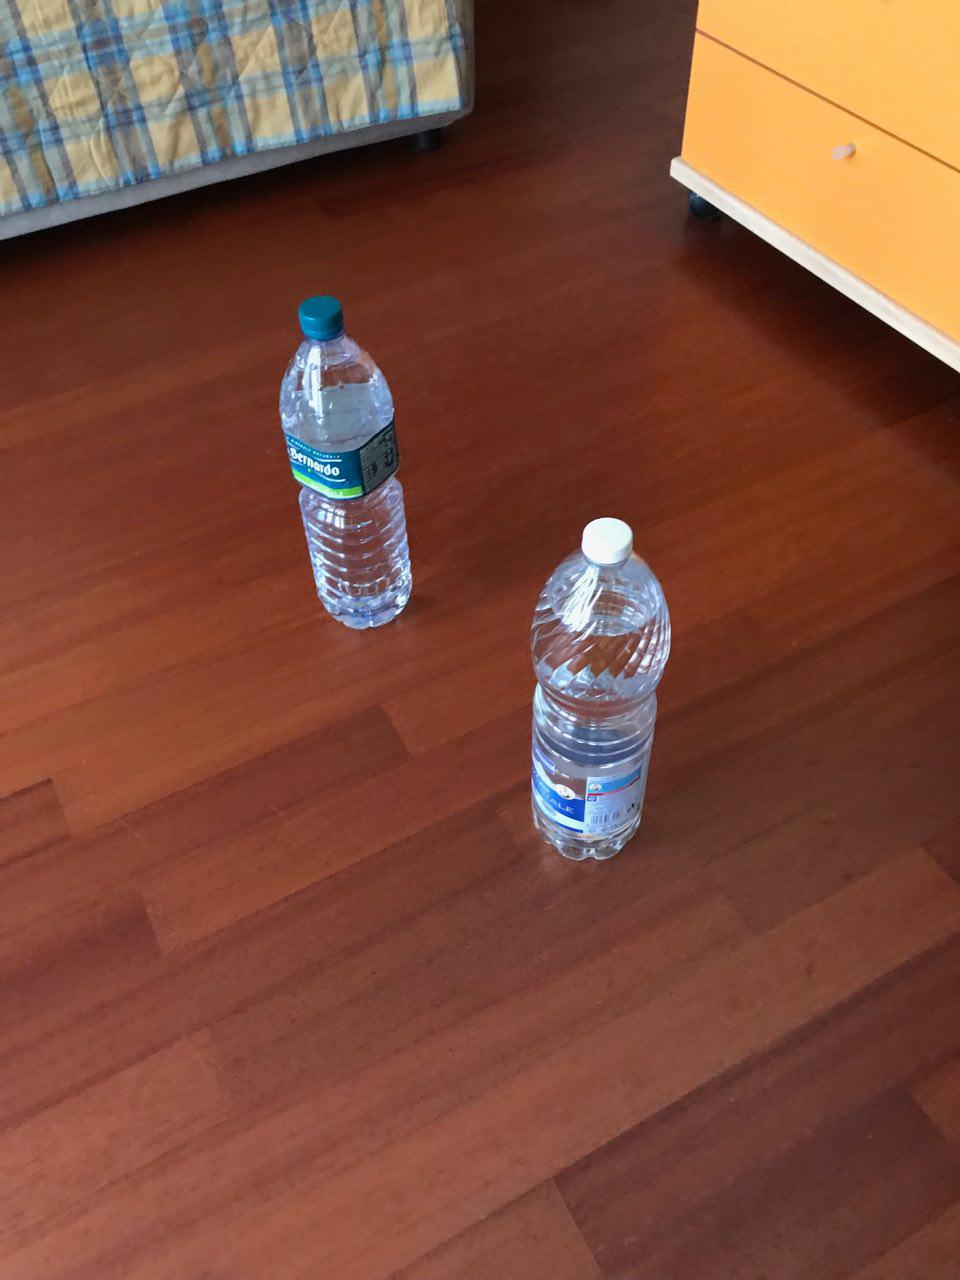san_bernardo: (277, 294, 413, 631)
